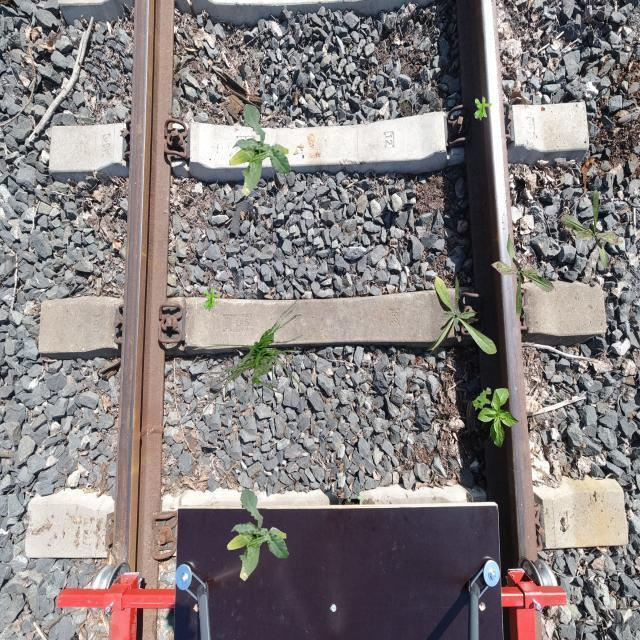Plant: (191, 297, 310, 420), (227, 488, 290, 582), (229, 103, 292, 196), (425, 275, 497, 356), (560, 190, 624, 274), (491, 234, 555, 318), (478, 388, 520, 448), (472, 387, 492, 412), (204, 287, 222, 311), (475, 97, 492, 121)
